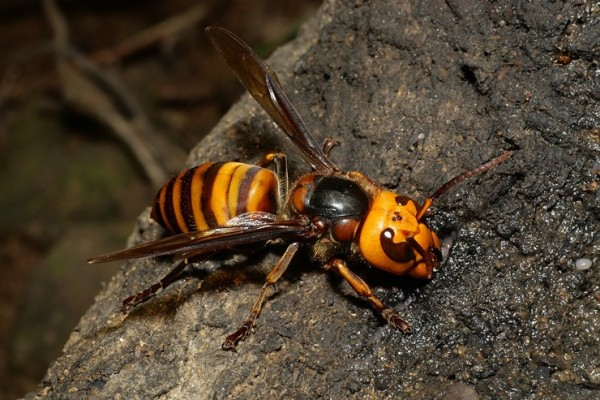asian_giant_hornet: (148, 157, 446, 297)
